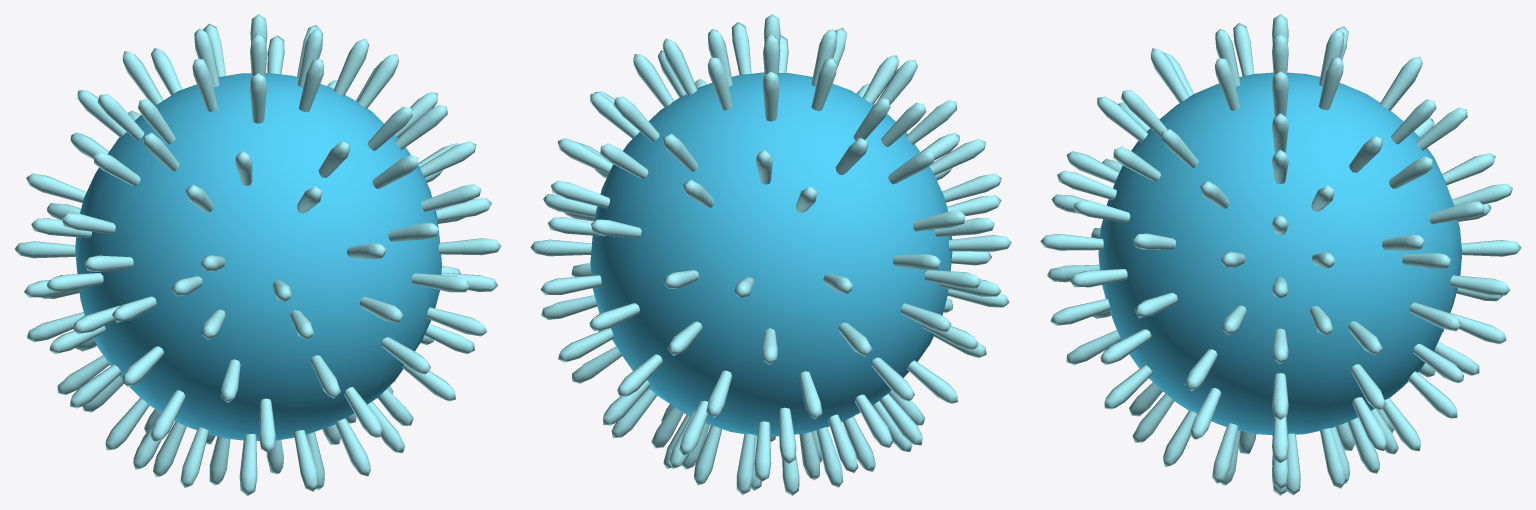
Rendered from HairBall.fbx.
3 views of the same model, side by side, from view 1: azimuth 30°, elevation 25°; view 2: azimuth 150°, elevation 25°; view 3: azimuth 270°, elevation 25° (orthographic).
Parts seen in each view (by area): view 1: HairBall; view 2: HairBall; view 3: HairBall.
Boxes of the visible parts, left/top/right/bottom form: HairBall: left=14, top=14, right=501, bottom=495; HairBall: left=530, top=14, right=1011, bottom=495; HairBall: left=1040, top=14, right=1521, bottom=495.
Size of the model in its own units: 25.04 by 25.06 by 24.92.
